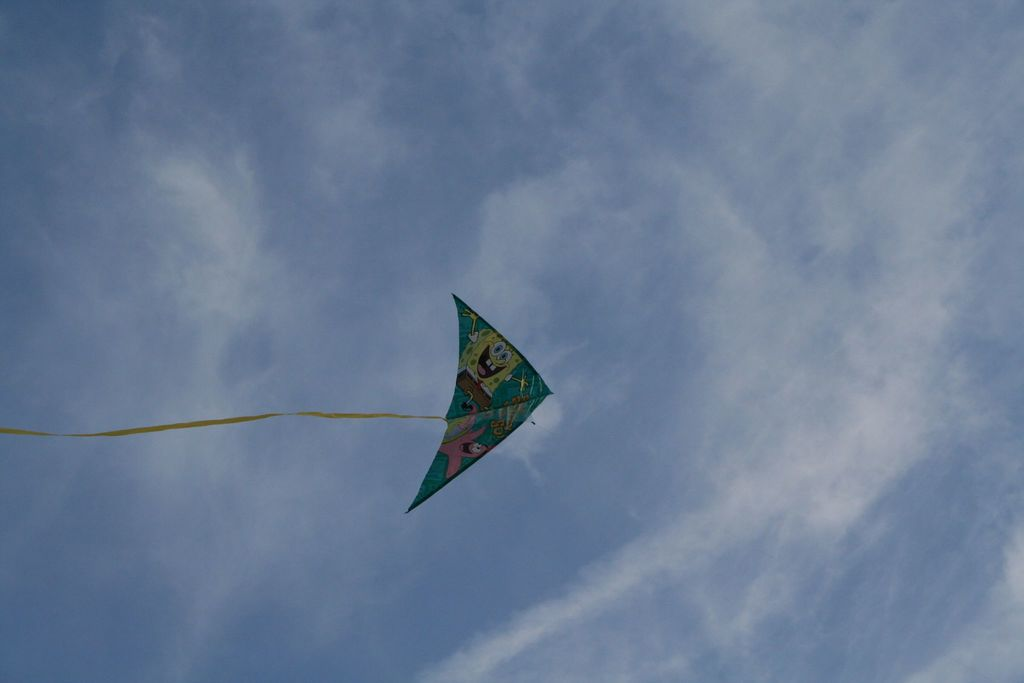kite: (1, 281, 556, 514)
